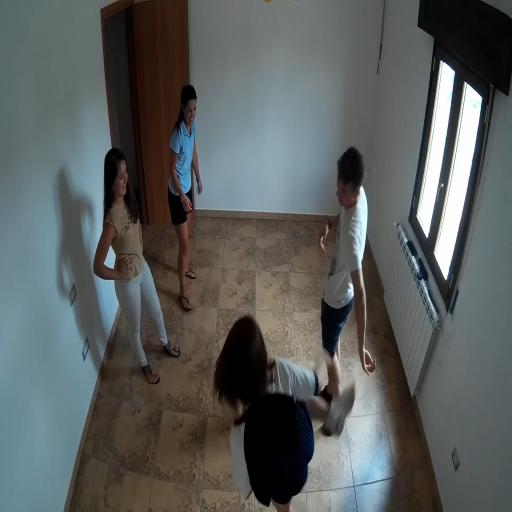violencia: (203, 128, 390, 512)
